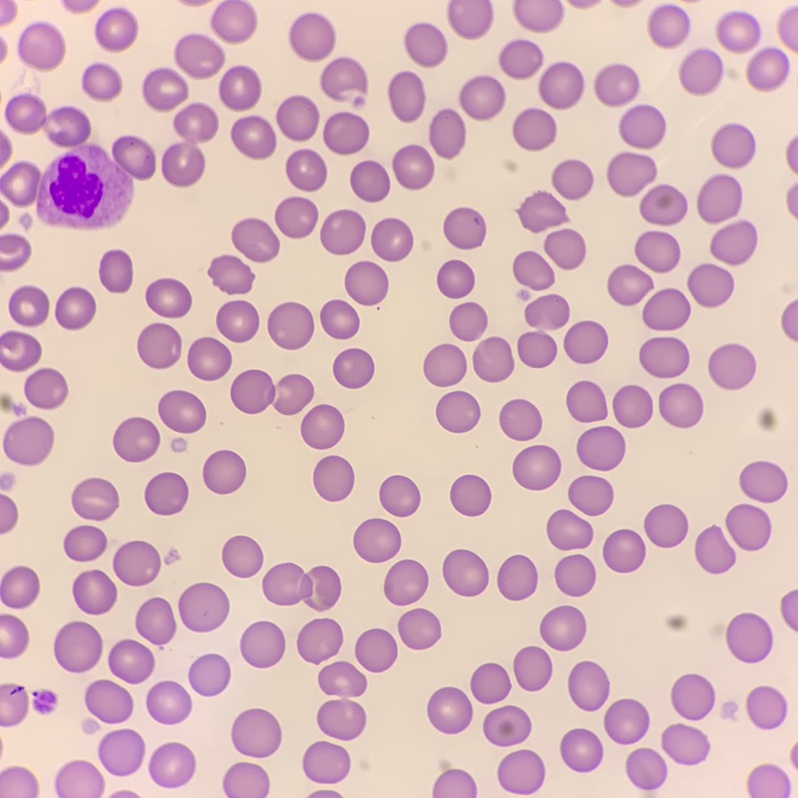RBC: (0, 94, 155, 227), (162, 103, 218, 186), (263, 563, 340, 610), (231, 370, 313, 414), (3, 416, 53, 465), (54, 621, 102, 672), (179, 583, 228, 631), (232, 709, 281, 757), (726, 613, 772, 662), (289, 13, 335, 61), (18, 22, 64, 70), (175, 34, 224, 78), (607, 152, 656, 196), (697, 174, 741, 223), (268, 302, 313, 349), (708, 344, 755, 389), (497, 749, 544, 794), (710, 220, 756, 265), (443, 549, 488, 595), (427, 687, 472, 733), (99, 729, 144, 775), (149, 742, 195, 787), (679, 47, 723, 94), (539, 62, 583, 109), (577, 426, 624, 470), (513, 445, 560, 489), (113, 541, 160, 585), (540, 605, 585, 650), (604, 699, 649, 744), (459, 76, 505, 120), (687, 263, 733, 307), (113, 417, 159, 461), (726, 504, 770, 550), (354, 518, 400, 562), (240, 621, 284, 667), (108, 639, 154, 683), (85, 680, 132, 723), (568, 661, 609, 710), (625, 748, 666, 797), (231, 115, 276, 159), (711, 123, 755, 168), (297, 618, 342, 662), (619, 105, 665, 148), (232, 219, 278, 262), (739, 461, 787, 502), (639, 337, 688, 377), (321, 210, 365, 254), (384, 560, 428, 604), (211, 0, 256, 43), (143, 68, 188, 111), (138, 323, 181, 368), (671, 674, 714, 719), (321, 57, 367, 99), (643, 288, 689, 330), (159, 390, 205, 432), (72, 478, 118, 520), (303, 741, 349, 783), (483, 705, 530, 746), (661, 724, 709, 764), (659, 383, 702, 427), (73, 570, 116, 614), (594, 64, 639, 106), (276, 96, 318, 141), (323, 112, 368, 154), (146, 681, 191, 723), (640, 184, 686, 225), (695, 526, 735, 573), (317, 700, 365, 739), (188, 337, 231, 380), (644, 504, 687, 547), (648, 3, 690, 47), (747, 46, 789, 90), (345, 261, 387, 305), (560, 728, 602, 772), (716, 11, 761, 52), (519, 191, 565, 231), (95, 8, 137, 51), (564, 321, 607, 363), (301, 405, 343, 448), (203, 450, 245, 493), (603, 529, 645, 572), (405, 23, 446, 67), (219, 66, 260, 110), (392, 145, 433, 189), (635, 231, 679, 272), (388, 71, 424, 121), (136, 598, 175, 644), (513, 108, 555, 150), (429, 109, 465, 158), (216, 300, 258, 342), (424, 344, 466, 386), (145, 472, 187, 514), (371, 218, 412, 261), (436, 391, 479, 432), (608, 265, 652, 305), (473, 337, 513, 381), (313, 456, 353, 500), (497, 555, 537, 599), (146, 278, 191, 317), (547, 510, 592, 549), (355, 629, 396, 671), (499, 39, 542, 79), (568, 476, 612, 515), (447, 0, 492, 38), (56, 761, 103, 797), (444, 208, 485, 249), (500, 399, 541, 440), (189, 654, 230, 695), (286, 149, 326, 191), (275, 197, 317, 237), (55, 287, 95, 329), (25, 368, 67, 408), (398, 609, 440, 649), (318, 661, 366, 696), (746, 686, 786, 728), (513, 646, 551, 690), (222, 536, 262, 577), (613, 385, 652, 427), (0, 566, 39, 608), (209, 255, 252, 293), (223, 762, 269, 797), (544, 229, 584, 269), (0, 331, 40, 371), (450, 475, 490, 515), (555, 555, 595, 595), (470, 663, 510, 703), (567, 381, 606, 422), (380, 475, 419, 516), (514, 0, 563, 32), (552, 160, 592, 199), (350, 161, 389, 201), (9, 286, 48, 326), (333, 349, 373, 388), (513, 251, 553, 289), (64, 525, 106, 560), (320, 300, 358, 338), (82, 63, 121, 100), (525, 295, 568, 328), (747, 764, 790, 797), (437, 260, 474, 298), (517, 331, 556, 367), (450, 303, 487, 340), (100, 250, 132, 292), (0, 614, 28, 657), (433, 769, 476, 797), (0, 767, 37, 797), (0, 684, 27, 725), (777, 5, 797, 51), (780, 590, 797, 629), (0, 495, 17, 533), (0, 234, 30, 255), (781, 301, 797, 340), (34, 690, 55, 712), (0, 395, 24, 413), (786, 138, 797, 171), (758, 409, 775, 430), (63, 0, 95, 11), (0, 134, 11, 163), (0, 0, 15, 21), (787, 185, 797, 215), (0, 257, 22, 270), (721, 702, 736, 717), (668, 616, 685, 629), (0, 473, 13, 489), (311, 790, 339, 797), (172, 438, 186, 451), (0, 204, 8, 225), (571, 0, 593, 7), (83, 720, 95, 732), (790, 746, 797, 766), (115, 791, 135, 797), (616, 0, 635, 6), (185, 0, 203, 5), (0, 42, 5, 57), (169, 551, 177, 560)
